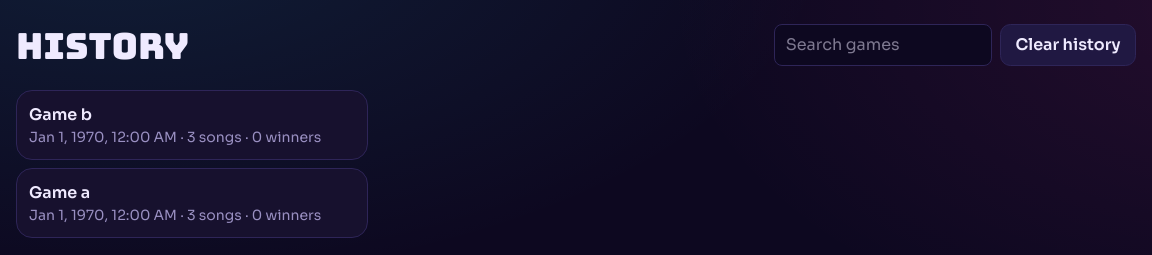
Test: clear history deletes all games after confirming
The width and height of the screenshot is (1152, 255).
Click the button "Clear history" at (1068, 45), box x1=1000 y1=24 x2=1136 y2=66
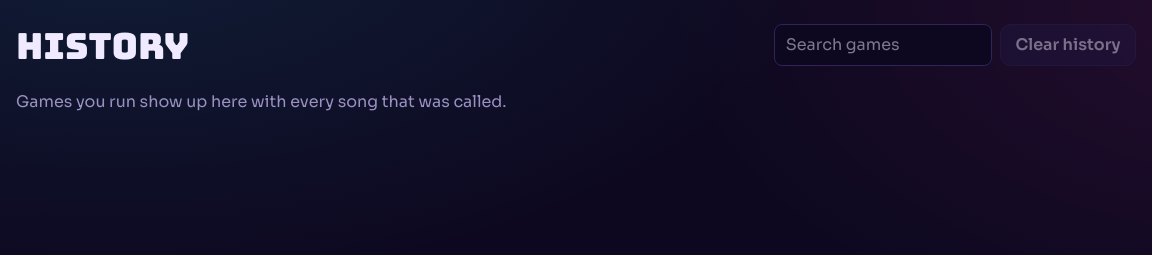
Expected: the button "Game b" is gone
